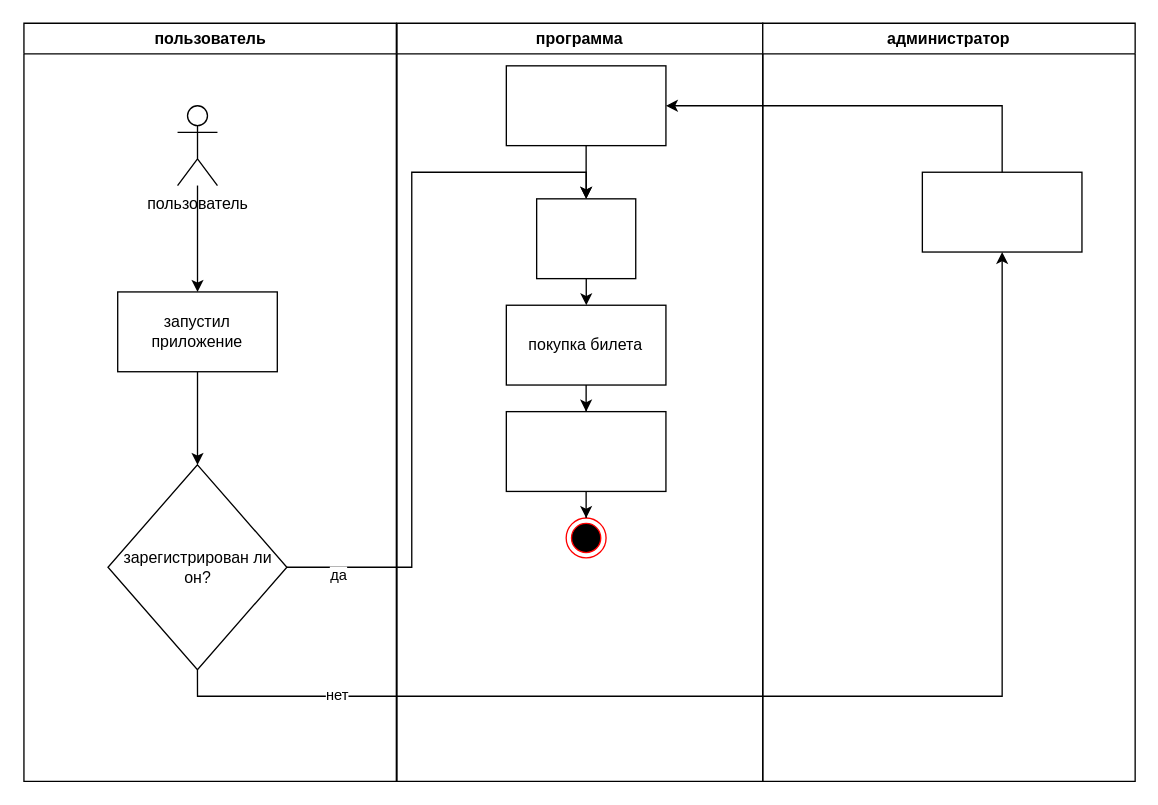
This 1158x805 diagram has some shape labels left out. Here are the shapes that lost their labels. From the top down, the centre of each, then its label:
At [585,105]: "получение данных о пользователе".
At [1001,211]: "регистрация пользователя".
At [585,238]: "выбор спектакля".
At [585,450]: "просчёт оставшихся билетов".
